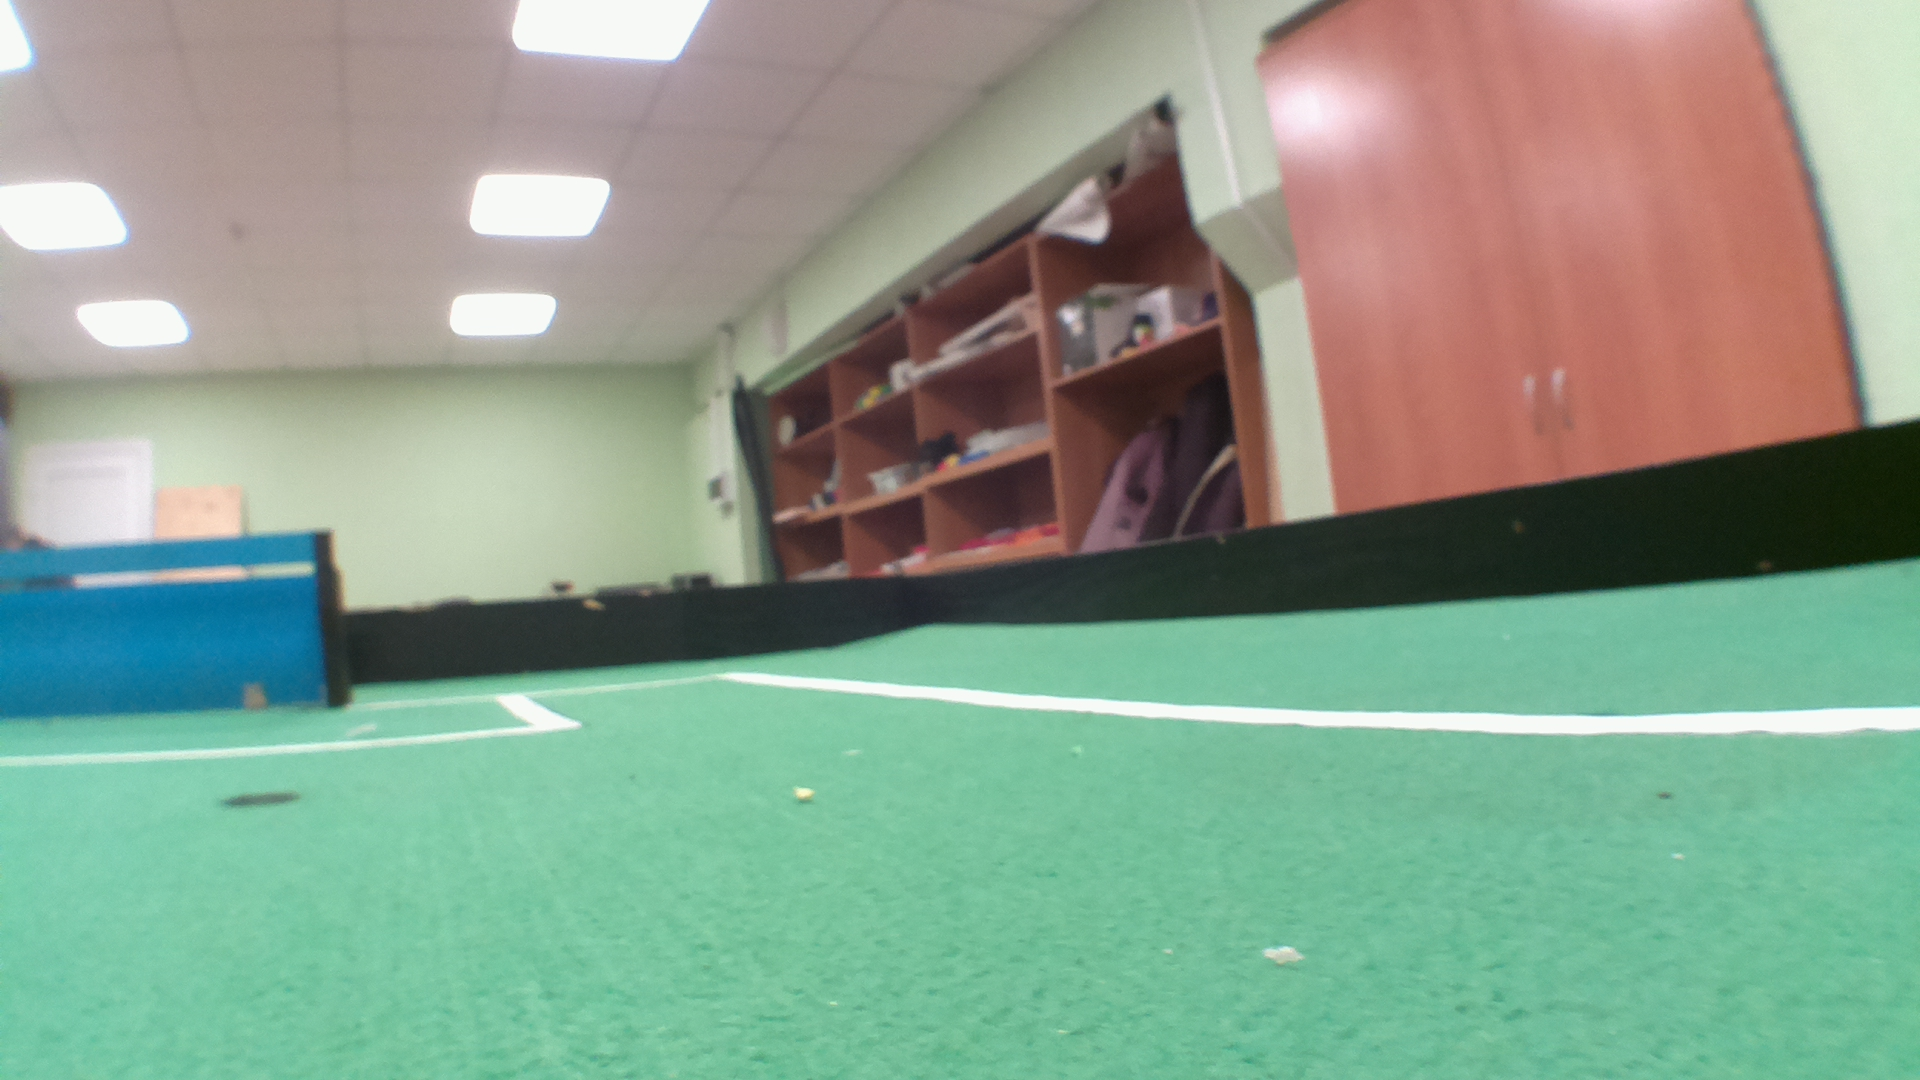BlueGoal: (1, 534, 310, 717)
